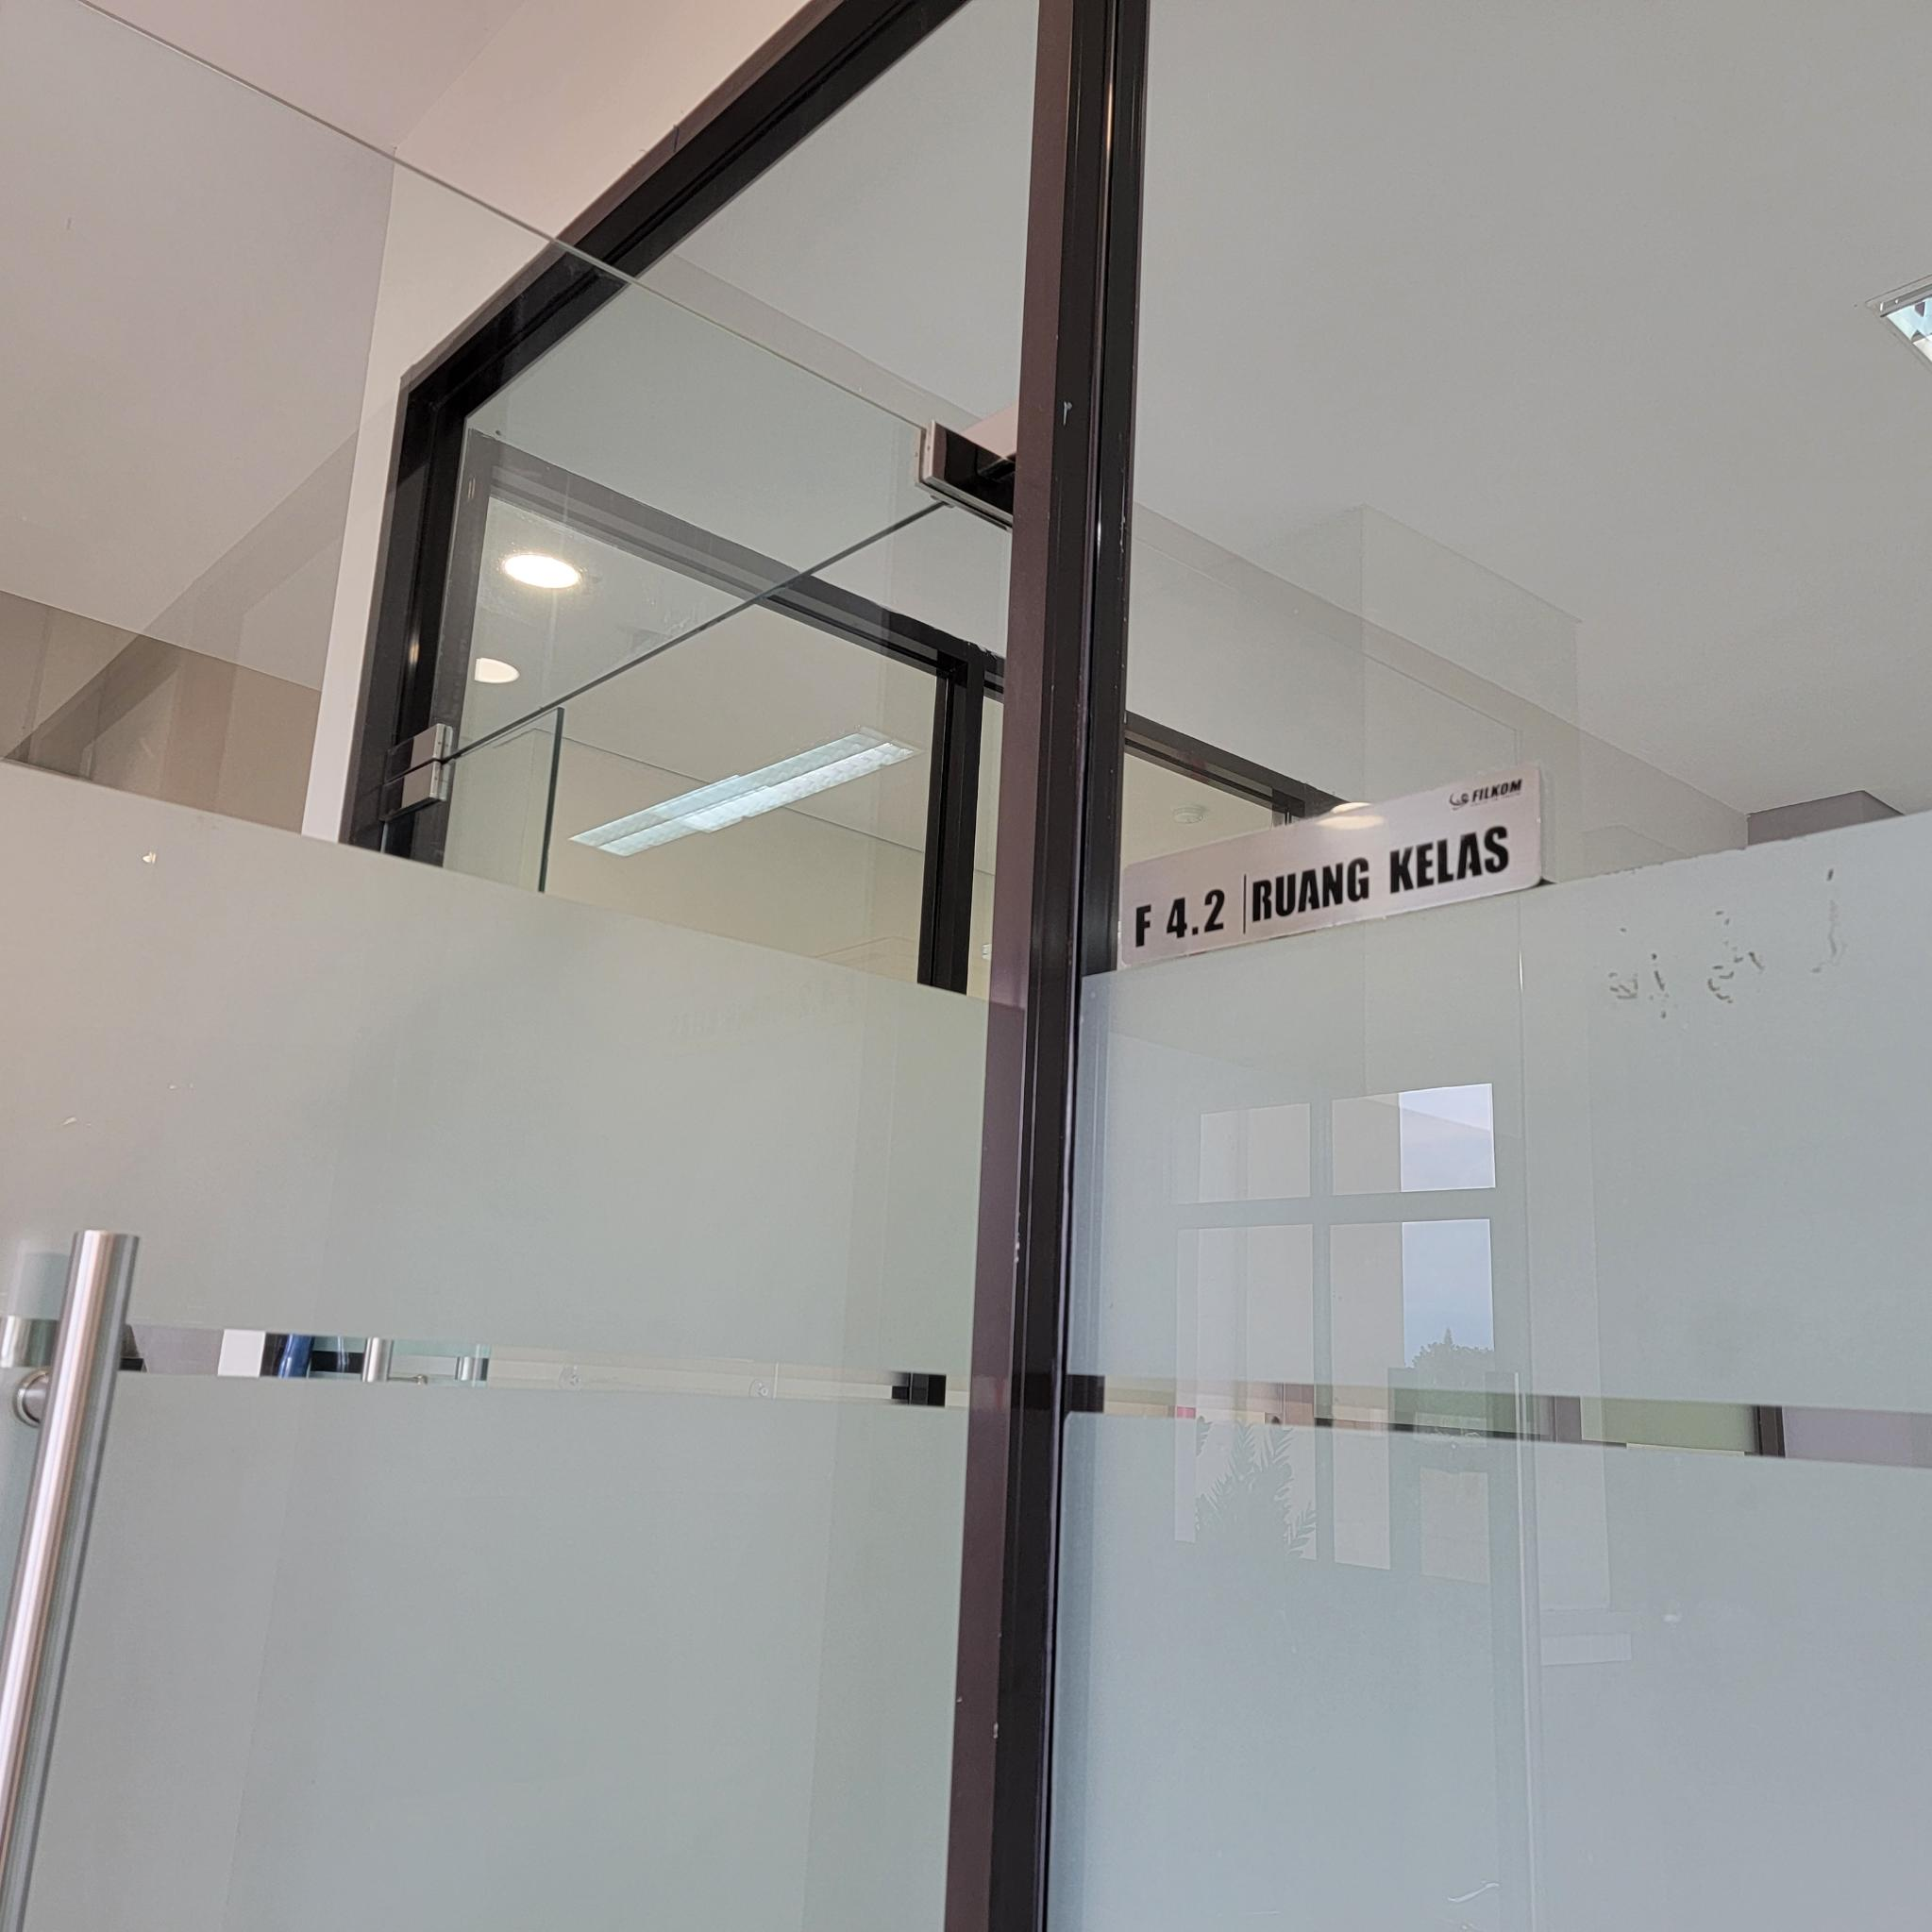plate: (1120, 766, 1546, 968)
